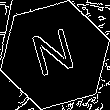N_S: (28, 25, 82, 85)
